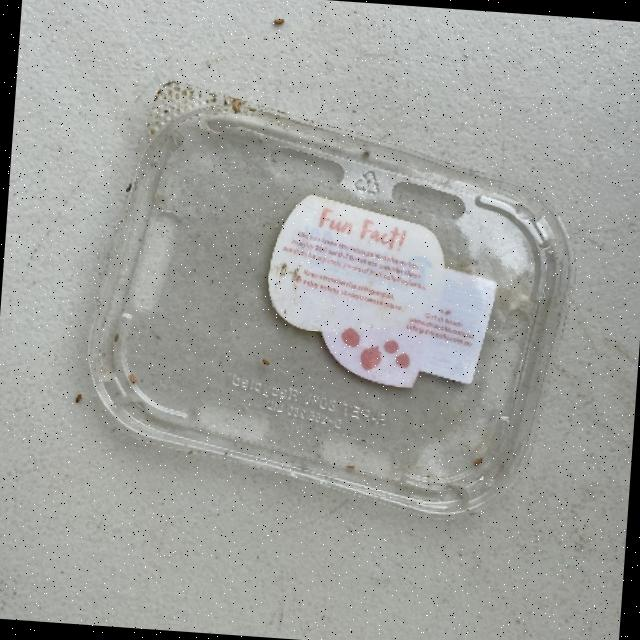plastic: (76, 79, 584, 524)
